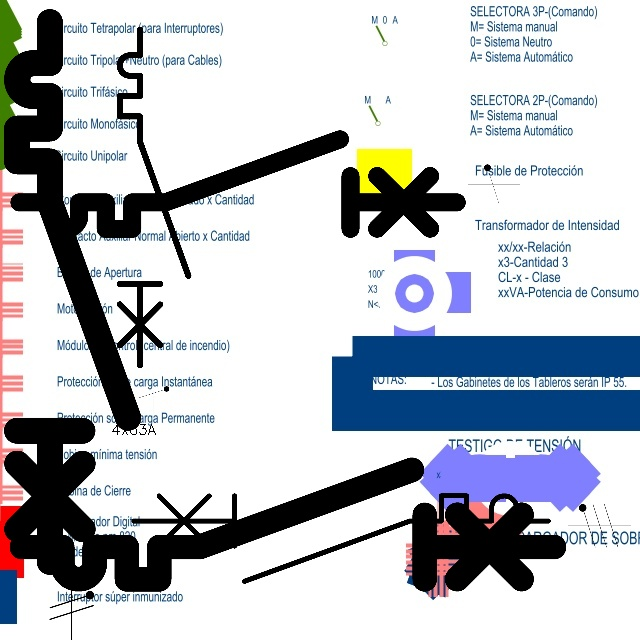interruptor_termomagnetico: (3, 8, 142, 576), (8, 456, 567, 593), (8, 128, 468, 240), (123, 485, 559, 591), (111, 21, 197, 374)
